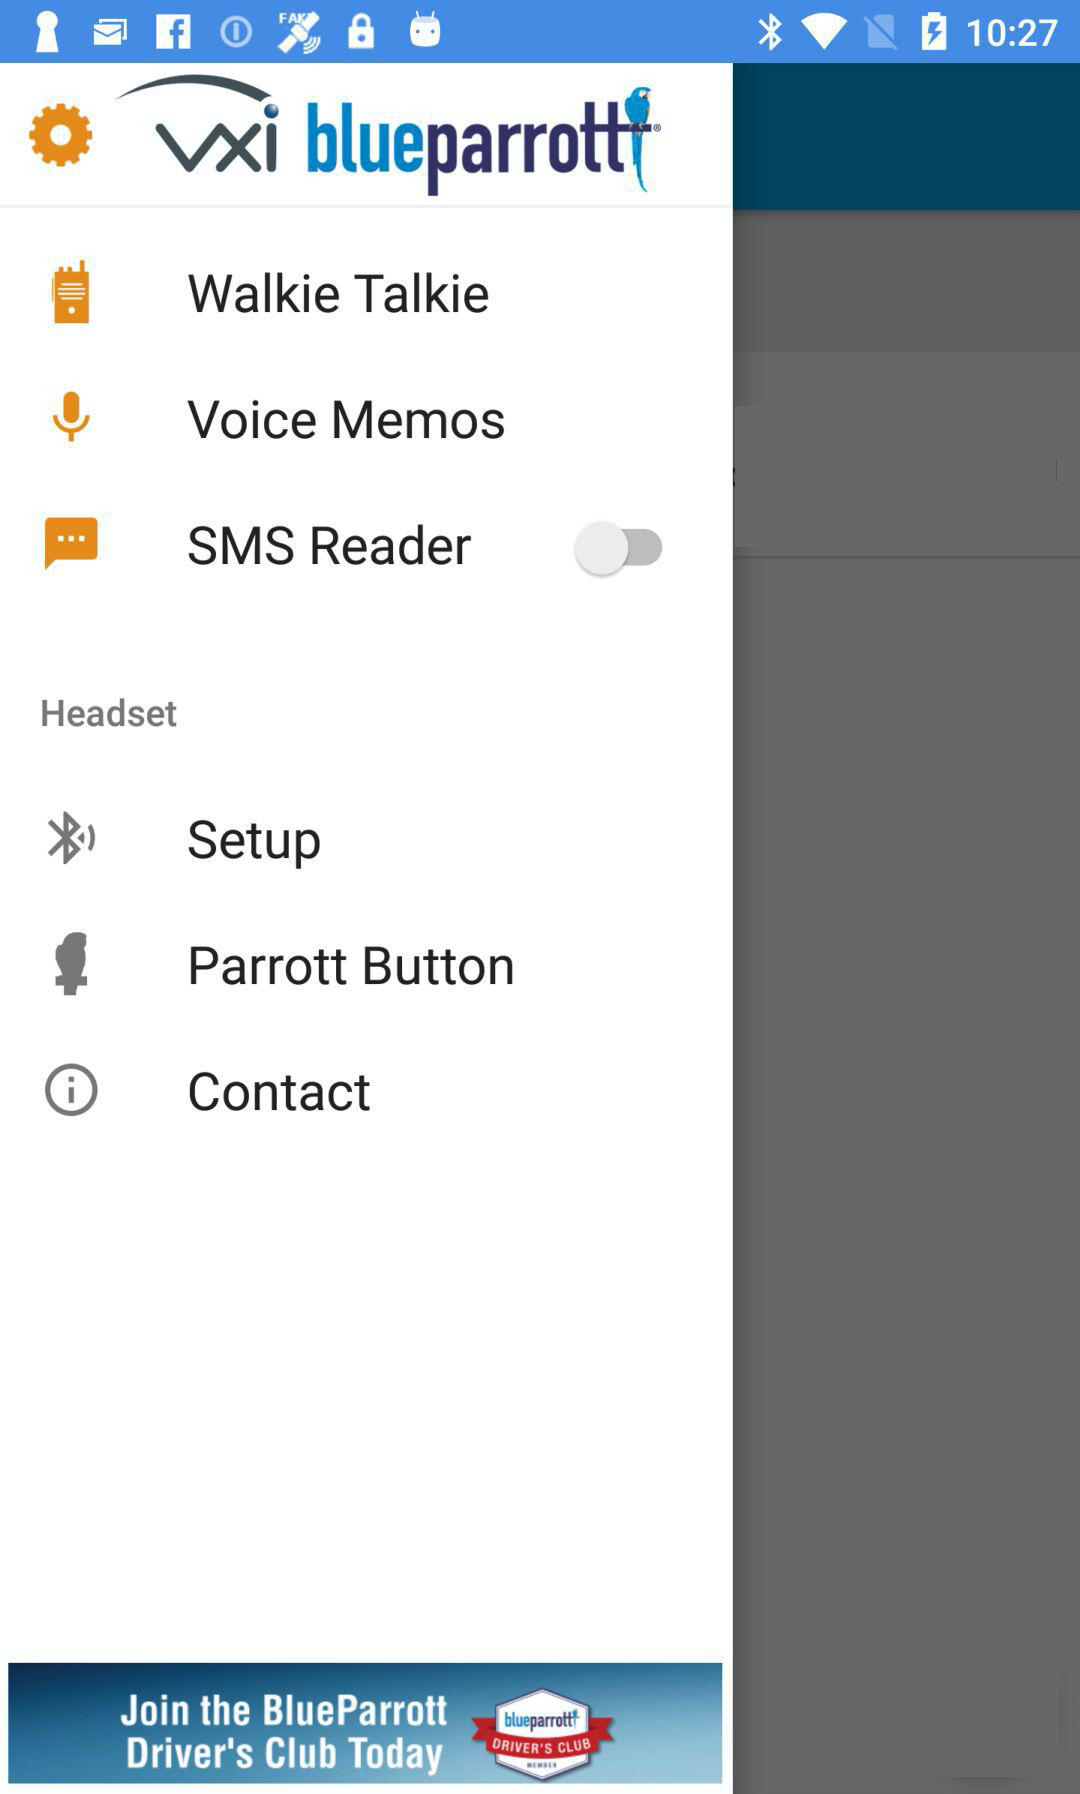Drawer: (1, 64, 734, 1794)
Icon: (29, 103, 94, 169), (45, 516, 99, 572), (45, 1064, 100, 1117), (47, 810, 97, 866), (53, 391, 94, 443)
Image: (8, 1662, 723, 1784), (307, 86, 662, 199), (115, 73, 281, 174), (51, 260, 91, 325), (54, 932, 88, 997)
Switch: (574, 522, 664, 579)
Text: (190, 944, 514, 988), (187, 270, 489, 315), (187, 399, 506, 441), (187, 523, 473, 568), (190, 1071, 372, 1114), (188, 819, 322, 871), (41, 697, 179, 728)
UpperTaskBar: (1, 1, 1080, 64)
